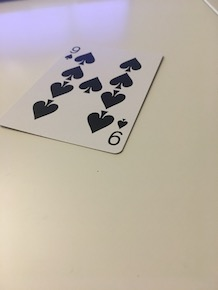NineOfSpades: (2, 36, 167, 156)
